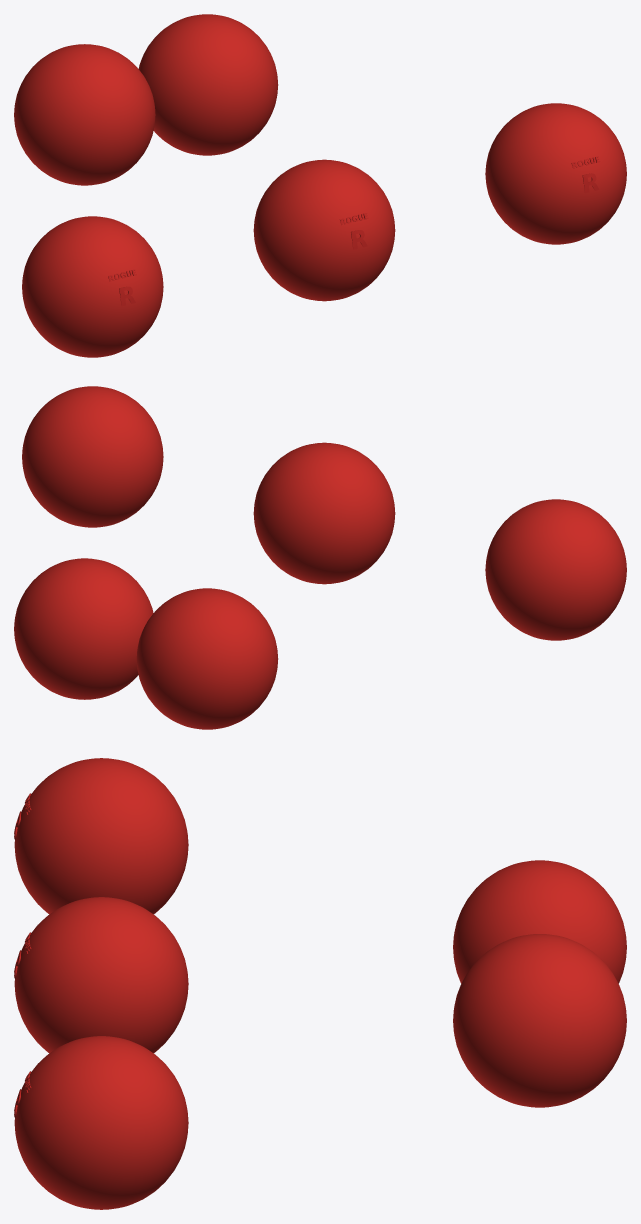
The model's file is rogue-lacrosse-balls_v001.glb.
3 renders of one model, top to bottom at view 1: azimuth 30°, elevation 25°; view 2: azimuth 150°, elevation 25°; view 3: azimuth 270°, elevation 25°, orthographic. The views are drawn at different scales.
Visible parts, largest first — view 1: rogue-lacrosse-balls_rubber, rogue-lacrosse-balls_emboss; view 2: rogue-lacrosse-balls_rubber; view 3: rogue-lacrosse-balls_rubber.
Part boxes in pixels (<box>): rogue-lacrosse-balls_rubber: <box>14,14,626,357</box>; rogue-lacrosse-balls_emboss: <box>108,156,600,306</box>; rogue-lacrosse-balls_rubber: <box>14,386,626,729</box>; rogue-lacrosse-balls_rubber: <box>14,758,626,1209</box>.
Size of the model in its own units: 0.3035 by 0.0635 by 0.2237.
